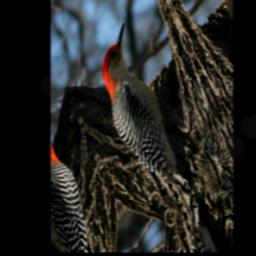Woodpecker: (85, 11, 204, 227)
